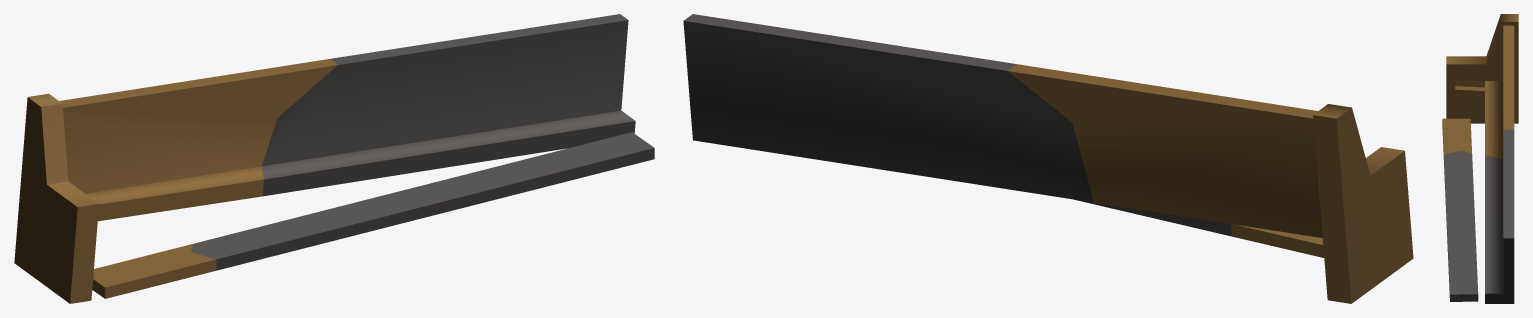
Rendered from AI_Prop_Church_Pew_Burnt.fbx.
3 renders of one model, left to right at view 1: azimuth 30°, elevation 25°; view 2: azimuth 150°, elevation 25°; view 3: azimuth 270°, elevation 25°, orthographic. The views are drawn at different scales.
Parts seen in each view (by area): view 1: AI_Prop_Church_Pew_Burnt; view 2: AI_Prop_Church_Pew_Burnt; view 3: AI_Prop_Church_Pew_Burnt.
Part boxes in pixels (bbox=[...]): AI_Prop_Church_Pew_Burnt: bbox=[14, 14, 654, 303]; AI_Prop_Church_Pew_Burnt: bbox=[683, 14, 1413, 303]; AI_Prop_Church_Pew_Burnt: bbox=[1442, 14, 1518, 303].
Size of the model in its own units: 3.86 by 1.01 by 0.6511.
